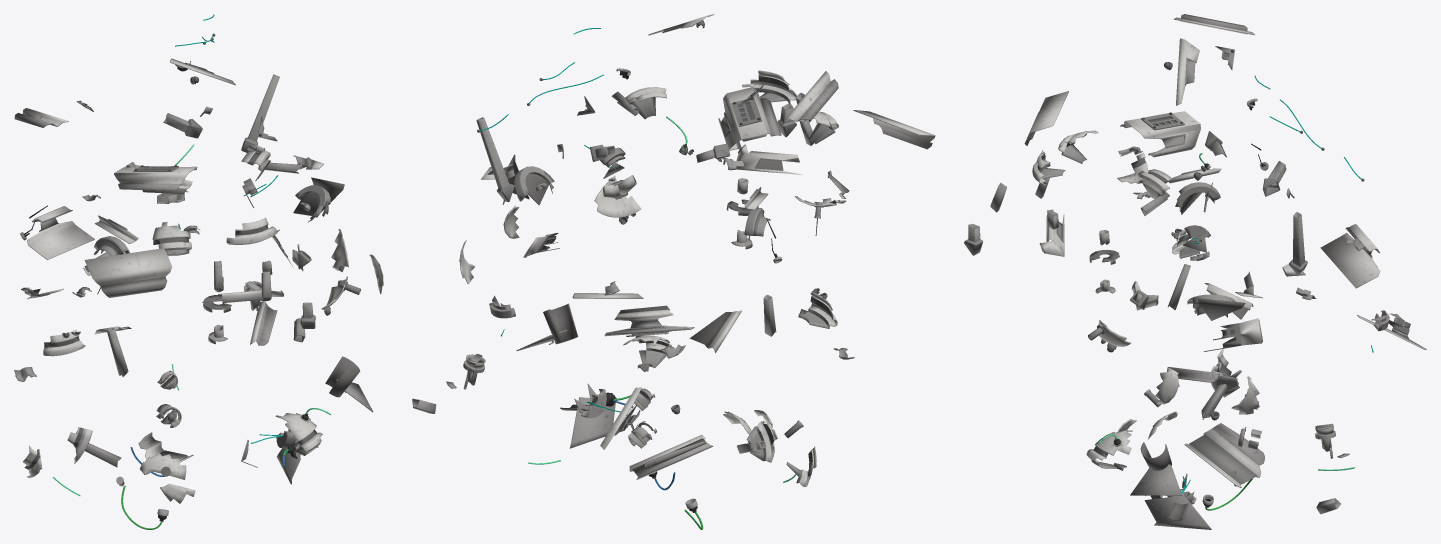
File: ChalDeep_Probe_Explo.fbx
3 views of the same model, side by side, from view 1: azimuth 30°, elevation 25°; view 2: azimuth 150°, elevation 25°; view 3: azimuth 270°, elevation 25° (orthographic). The views are drawn at different scales.
Visible parts, largest first — view 1: CD_72, CD_20, CD_57, CD_16, CD_6, CD_2, CD_76, CD_10, CD_31, CD_78, CD_17, CD_27 (+12 smaller); view 2: CD_57, CD_10, CD_20, CD_37, CD_16, CD_51, CD_69, CD_2, CD_72, CD_80, CD_78, CD_31 (+6 smaller); view 3: CD_37, CD_57, CD_20, CD_10, CD_2, CD_6, CD_15, CD_16, CD_40, CD_80, CD_72, CD_17 (+8 smaller).
Part boxes in pixels (<box>): CD_72: <box>84,248,172,297</box>; CD_20: <box>27,206,94,259</box>; CD_57: <box>114,165,197,193</box>; CD_16: <box>293,177,344,222</box>; CD_6: <box>275,408,330,455</box>; CD_2: <box>325,356,373,412</box>; CD_76: <box>152,222,191,256</box>; CD_10: <box>251,429,318,484</box>; CD_31: <box>67,427,121,467</box>; CD_78: <box>226,217,279,244</box>; CD_17: <box>241,74,279,153</box>; CD_27: <box>139,453,186,479</box>; CD_57: <box>718,87,781,150</box>; CD_10: <box>560,384,632,448</box>; CD_20: <box>604,305,694,336</box>; CD_37: <box>629,434,712,490</box>; CD_16: <box>508,154,554,205</box>; CD_51: <box>784,71,838,121</box>; CD_69: <box>736,144,802,174</box>; CD_2: <box>516,303,577,350</box>; CD_72: <box>853,110,935,149</box>; CD_80: <box>611,87,666,119</box>; CD_78: <box>742,70,797,103</box>; CD_31: <box>737,421,777,462</box>; CD_37: <box>1184,423,1264,487</box>; CD_57: <box>1120,111,1200,157</box>; CD_20: <box>1320,224,1380,288</box>; CD_10: <box>1144,476,1211,529</box>; CD_2: <box>1130,442,1181,495</box>; CD_6: <box>1086,430,1132,470</box>; CD_15: <box>1203,318,1262,351</box>; CD_16: <box>1187,294,1245,320</box>; CD_40: <box>1176,38,1199,105</box>; CD_80: <box>1138,169,1172,215</box>; CD_72: <box>1024,91,1068,145</box>; CD_17: <box>1282,212,1307,276</box>.
Bounding box in the file's own units: 4.43 × 5.67 × 5.01.
